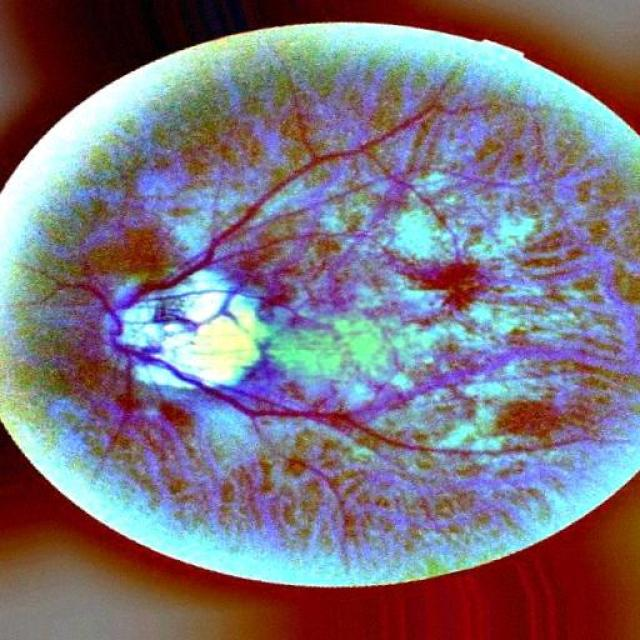Macula: (405, 262, 486, 309)
Nerves: (129, 106, 434, 304), (103, 334, 435, 450)
Optic Disk: (119, 274, 265, 388)
